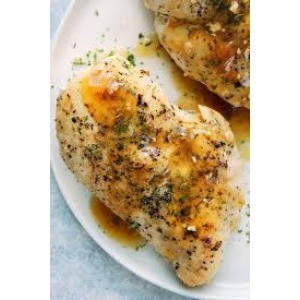chicken breast_brain food: (71, 72, 228, 233)
